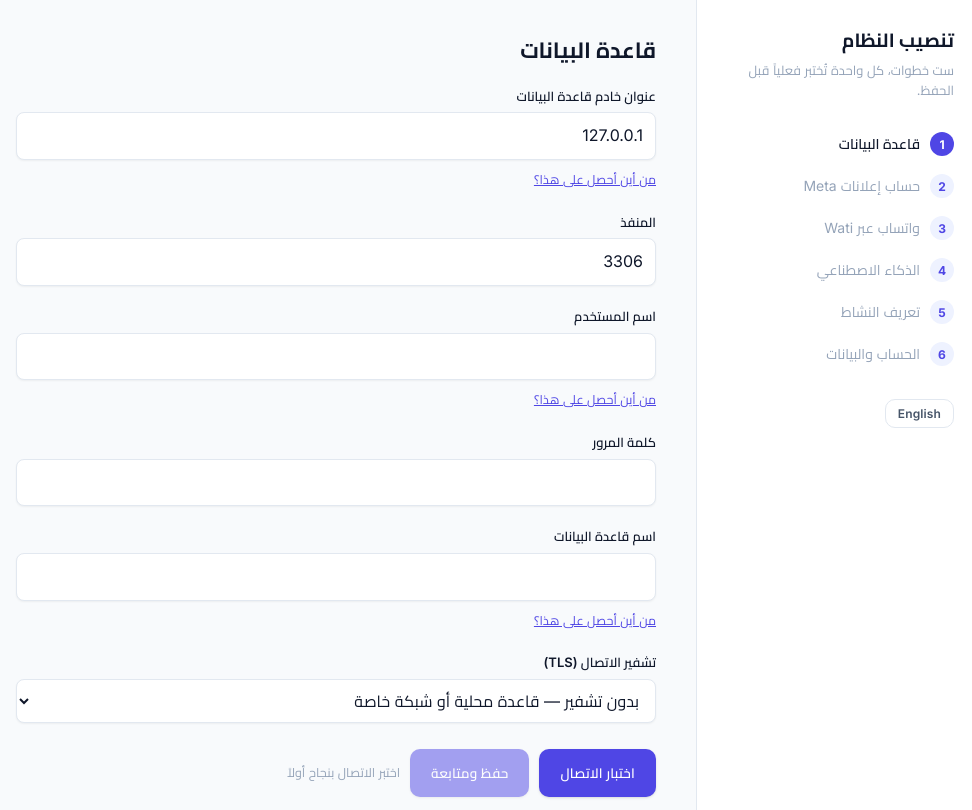
Test: the wizard itself › enables saving once the test succeeds
Check: the heading "تنصيب النظام" is shown, box [842,29,954,52]
Click the button "اختبار الاتصال" at (598, 773), box [540,749,656,797]
(page scrolled)
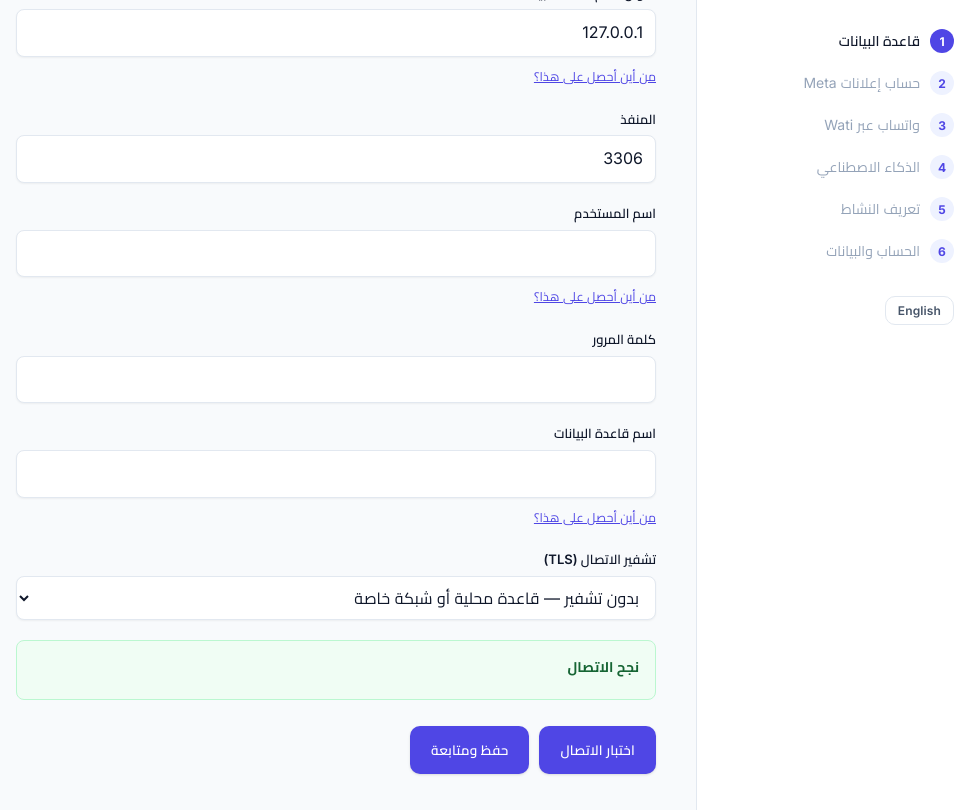
Check: the text "نجح الاتصال" is shown, box [567,658,639,675]
Check: the button "حفظ ومتابعة" is enabled, box [410,726,530,774]
